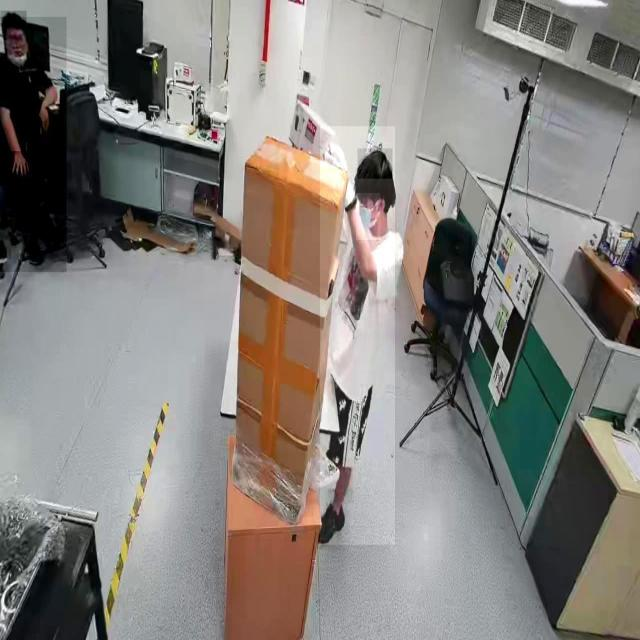face_mask: (356, 193, 380, 240)
hand_noglove: (10, 151, 30, 180), (36, 103, 50, 136)
head_nohelmet: (357, 148, 393, 180), (1, 10, 27, 28)
person: (320, 126, 396, 546), (0, 17, 67, 273)
shoes: (313, 496, 347, 549)
